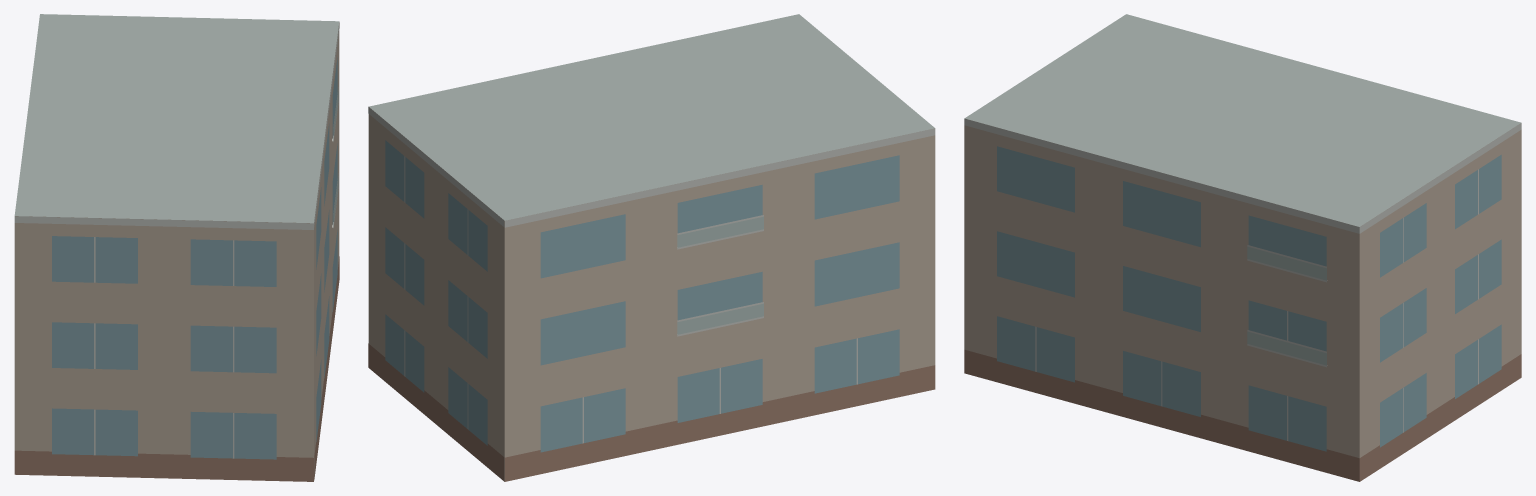
The model's file is survey-upis-32704776.glb.
3 renders of one model, left to right at view 1: azimuth 30°, elevation 25°; view 2: azimuth 150°, elevation 25°; view 3: azimuth 270°, elevation 25°, orthographic. The views are drawn at different scales.
Visible parts, largest first — view 1: survey-upis-32704776.tmp; view 2: survey-upis-32704776.tmp; view 3: survey-upis-32704776.tmp.
Part boxes in pixels (x1=…): survey-upis-32704776.tmp: x1=14, y1=14, x2=339, y2=481; survey-upis-32704776.tmp: x1=368, y1=14, x2=935, y2=481; survey-upis-32704776.tmp: x1=964, y1=14, x2=1521, y2=481.
Size of the model in its own units: 16.42 by 9.15 by 18.14.
